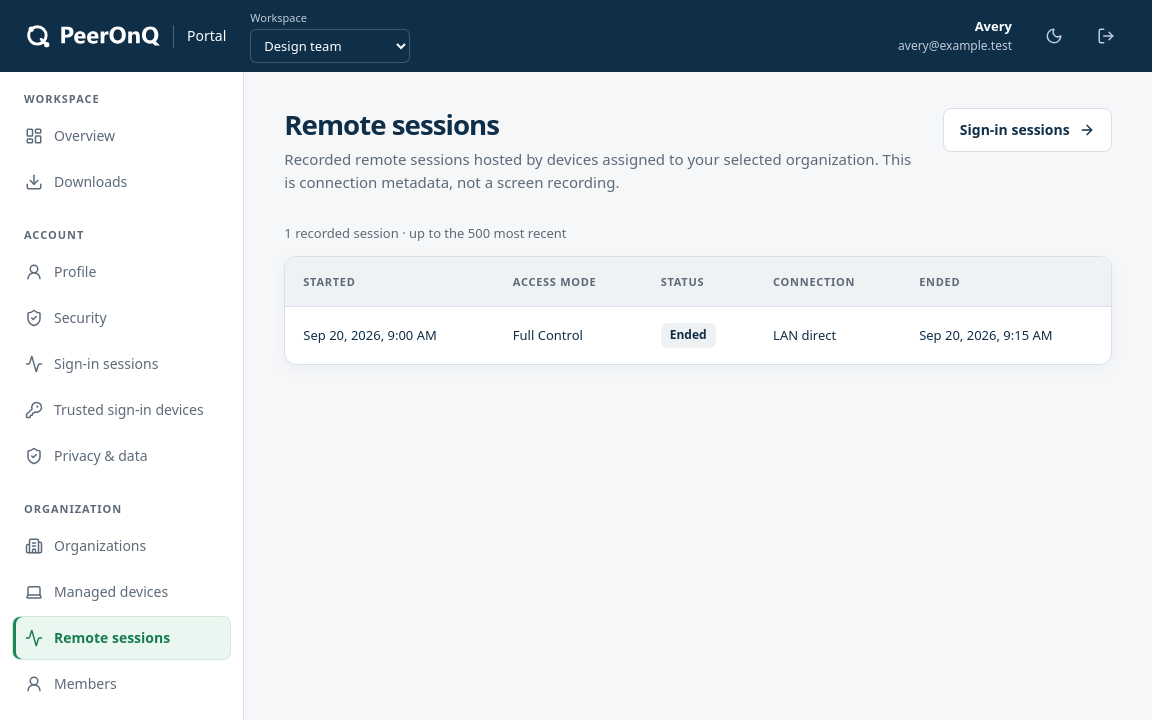
Test: portal workspace › keeps remote history distinct from browser sessions and preserves real revocation
Expected: the text "Full Control" is shown, [495, 306, 643, 364]
Click the link "Sign-in sessions" below "Security" at {"x": 92, "y": 364}, box [25, 354, 158, 373]
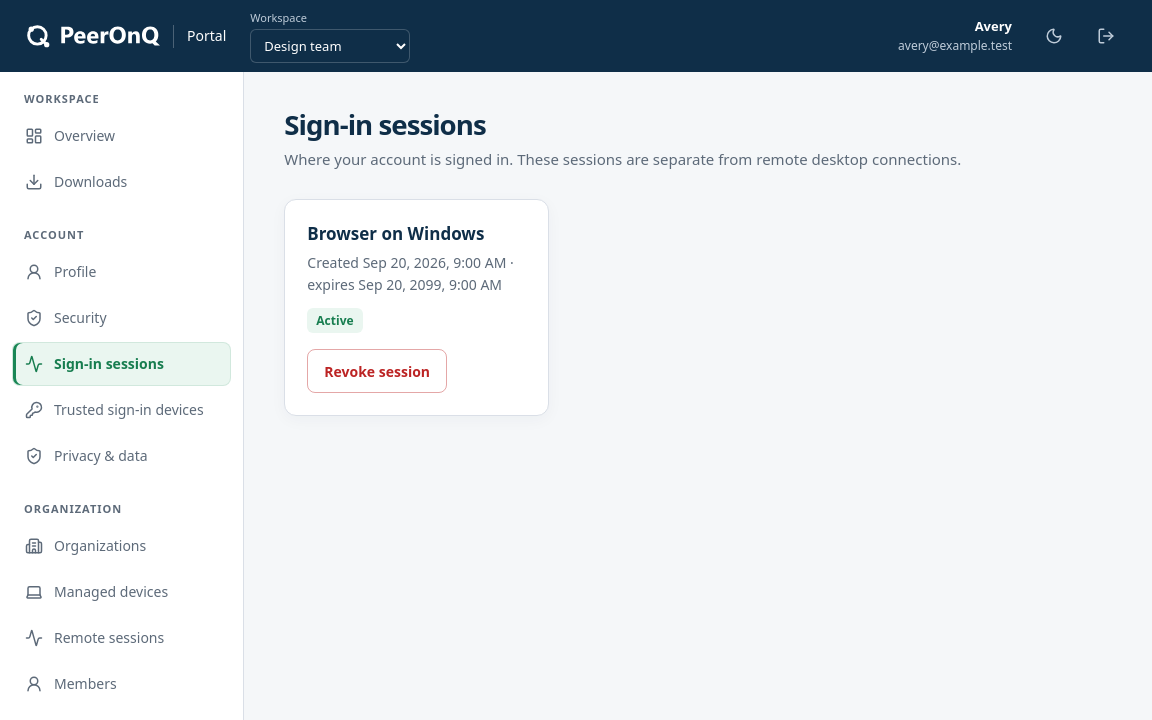
Expected: the heading "Browser on Windows" is shown, [307, 222, 484, 245]
Click the button "Revoke session" at {"x": 377, "y": 371}, box [307, 349, 447, 393]
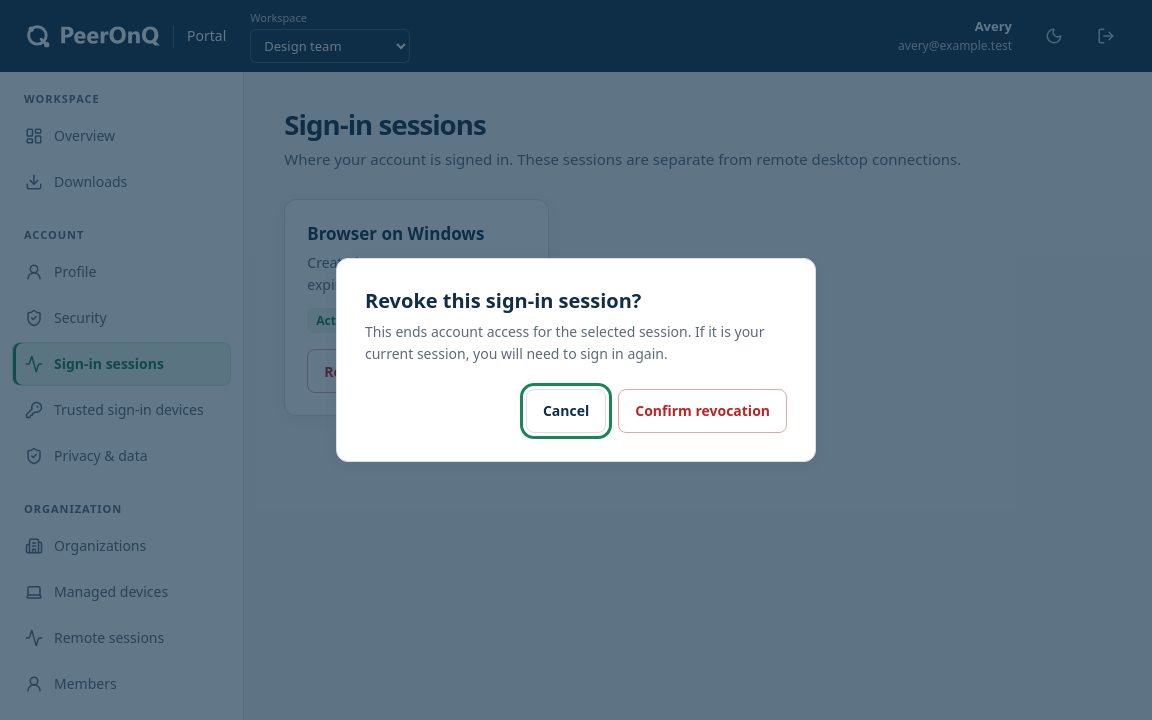
Click the button "Confirm revocation" at {"x": 703, "y": 411}, box [618, 389, 787, 433]
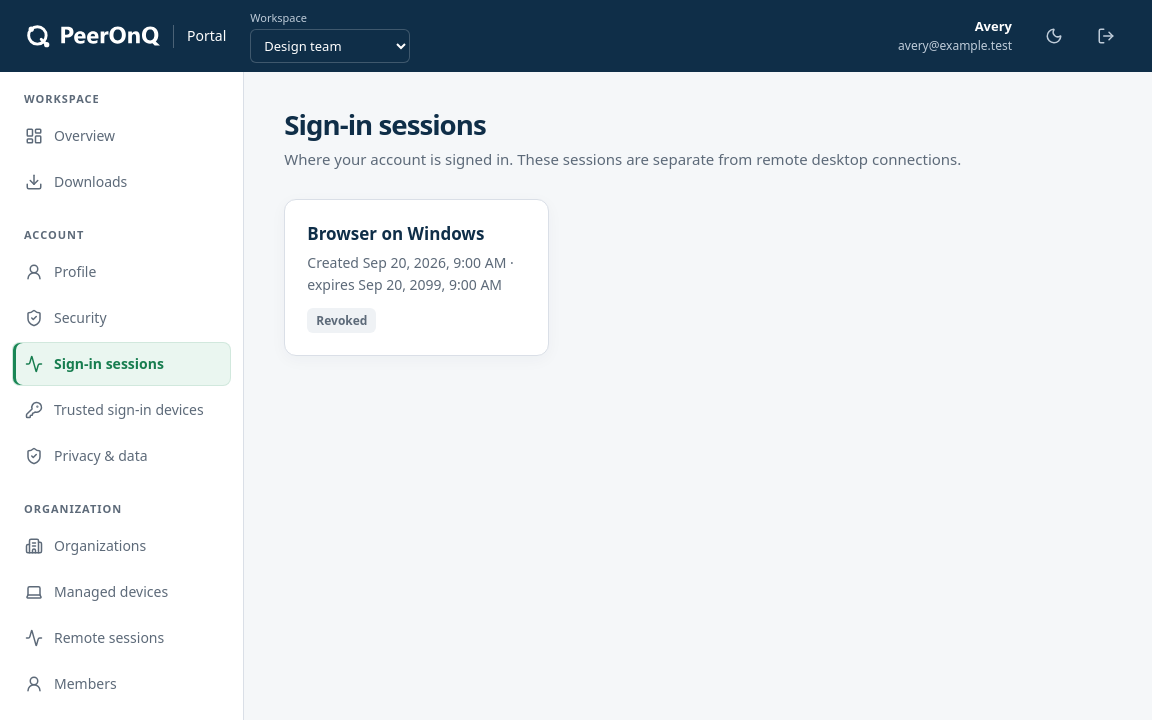
Expected: the text "Revoked" is shown, [307, 308, 376, 333]
